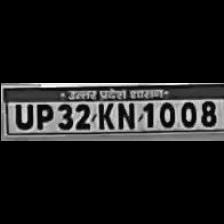0: (155, 99, 175, 127), (177, 98, 197, 126)
1: (136, 100, 156, 128)
2: (72, 99, 92, 130)
3: (54, 101, 72, 129)
8: (197, 98, 217, 126)
K: (93, 99, 113, 130)
N: (114, 99, 136, 130)
P: (33, 101, 53, 128)
U: (9, 101, 33, 129)
